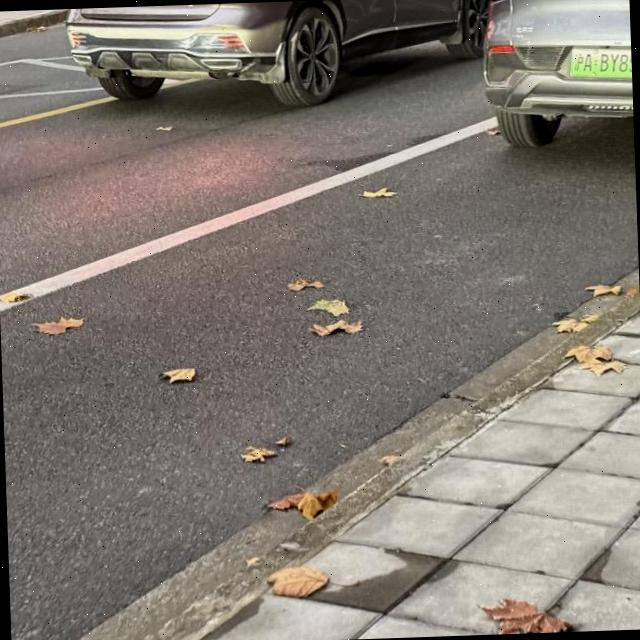curb: (138, 287, 639, 640), (0, 9, 66, 38)
